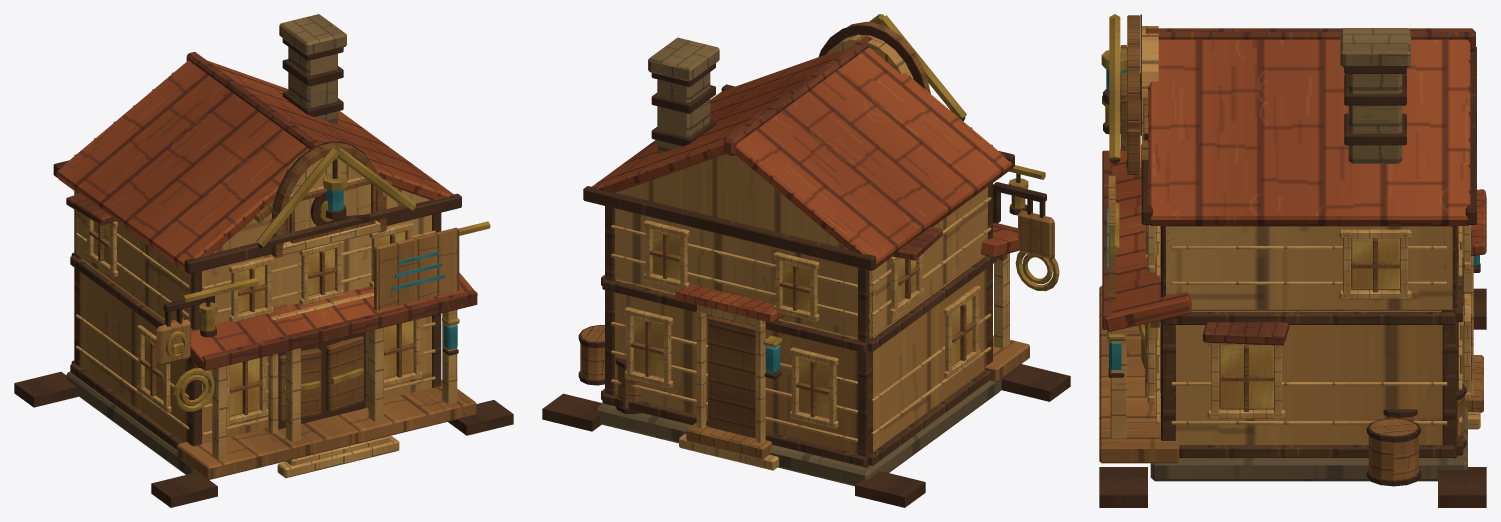
File: tavern.e5.glb
The picture shows the model from 3 angles, left to right: view 1: azimuth 30°, elevation 25°; view 2: azimuth 150°, elevation 25°; view 3: azimuth 270°, elevation 25°; orthographic projection. The views are drawn at different scales.
Visible parts, largest first — view 1: TownTavernE5; view 2: TownTavernE5; view 3: TownTavernE5.
Boxes of the visible parts, x1=… form: TownTavernE5: x1=14, y1=14, x2=513, y2=507; TownTavernE5: x1=542, y1=14, x2=1070, y2=507; TownTavernE5: x1=1099, y1=14, x2=1486, y2=507.
Size of the model in its own units: 4.23 by 3.96 by 3.35.
1 material, 1 textured.
